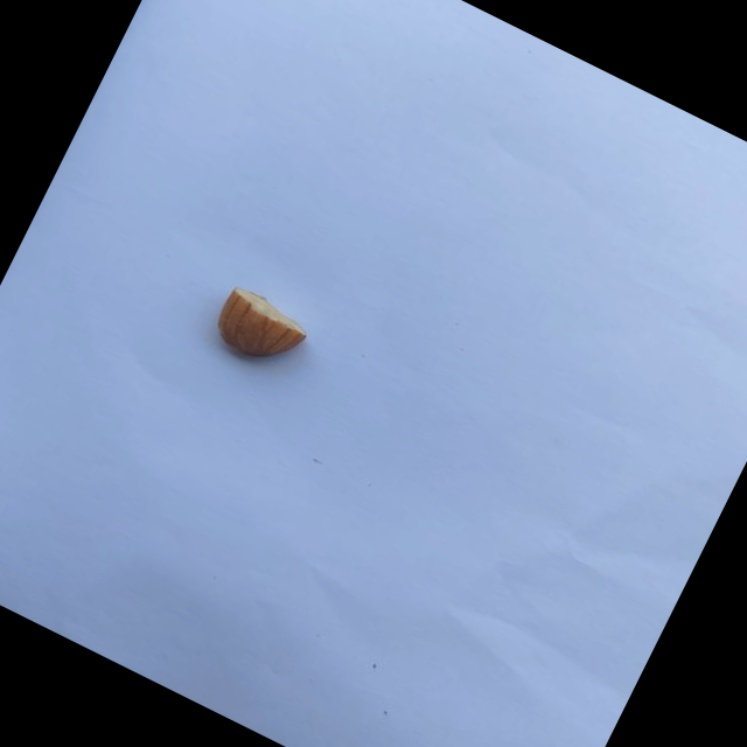grade4: (197, 275, 325, 388)
